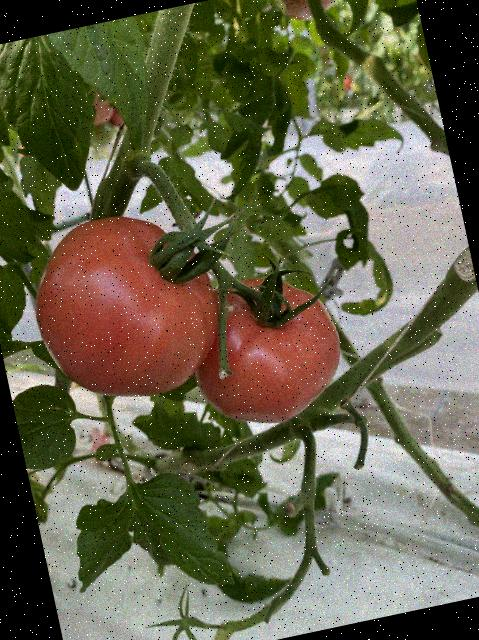b_fully_ripened: (19, 197, 232, 416), (178, 263, 354, 437)
